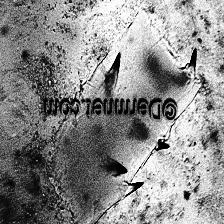Toxin: (111, 158, 146, 198)
